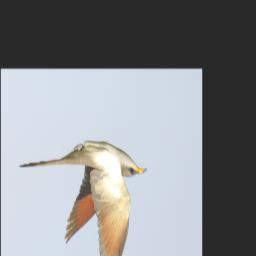Cuckoo: (19, 142, 147, 256)
